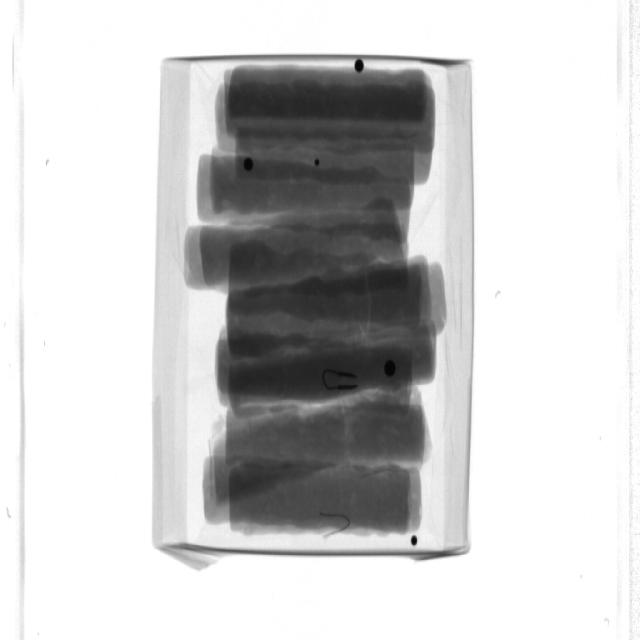ym: (320, 513, 352, 539), (325, 369, 360, 391), (385, 359, 399, 377), (355, 59, 366, 75), (246, 160, 254, 174), (411, 537, 419, 547), (315, 161, 321, 168)
